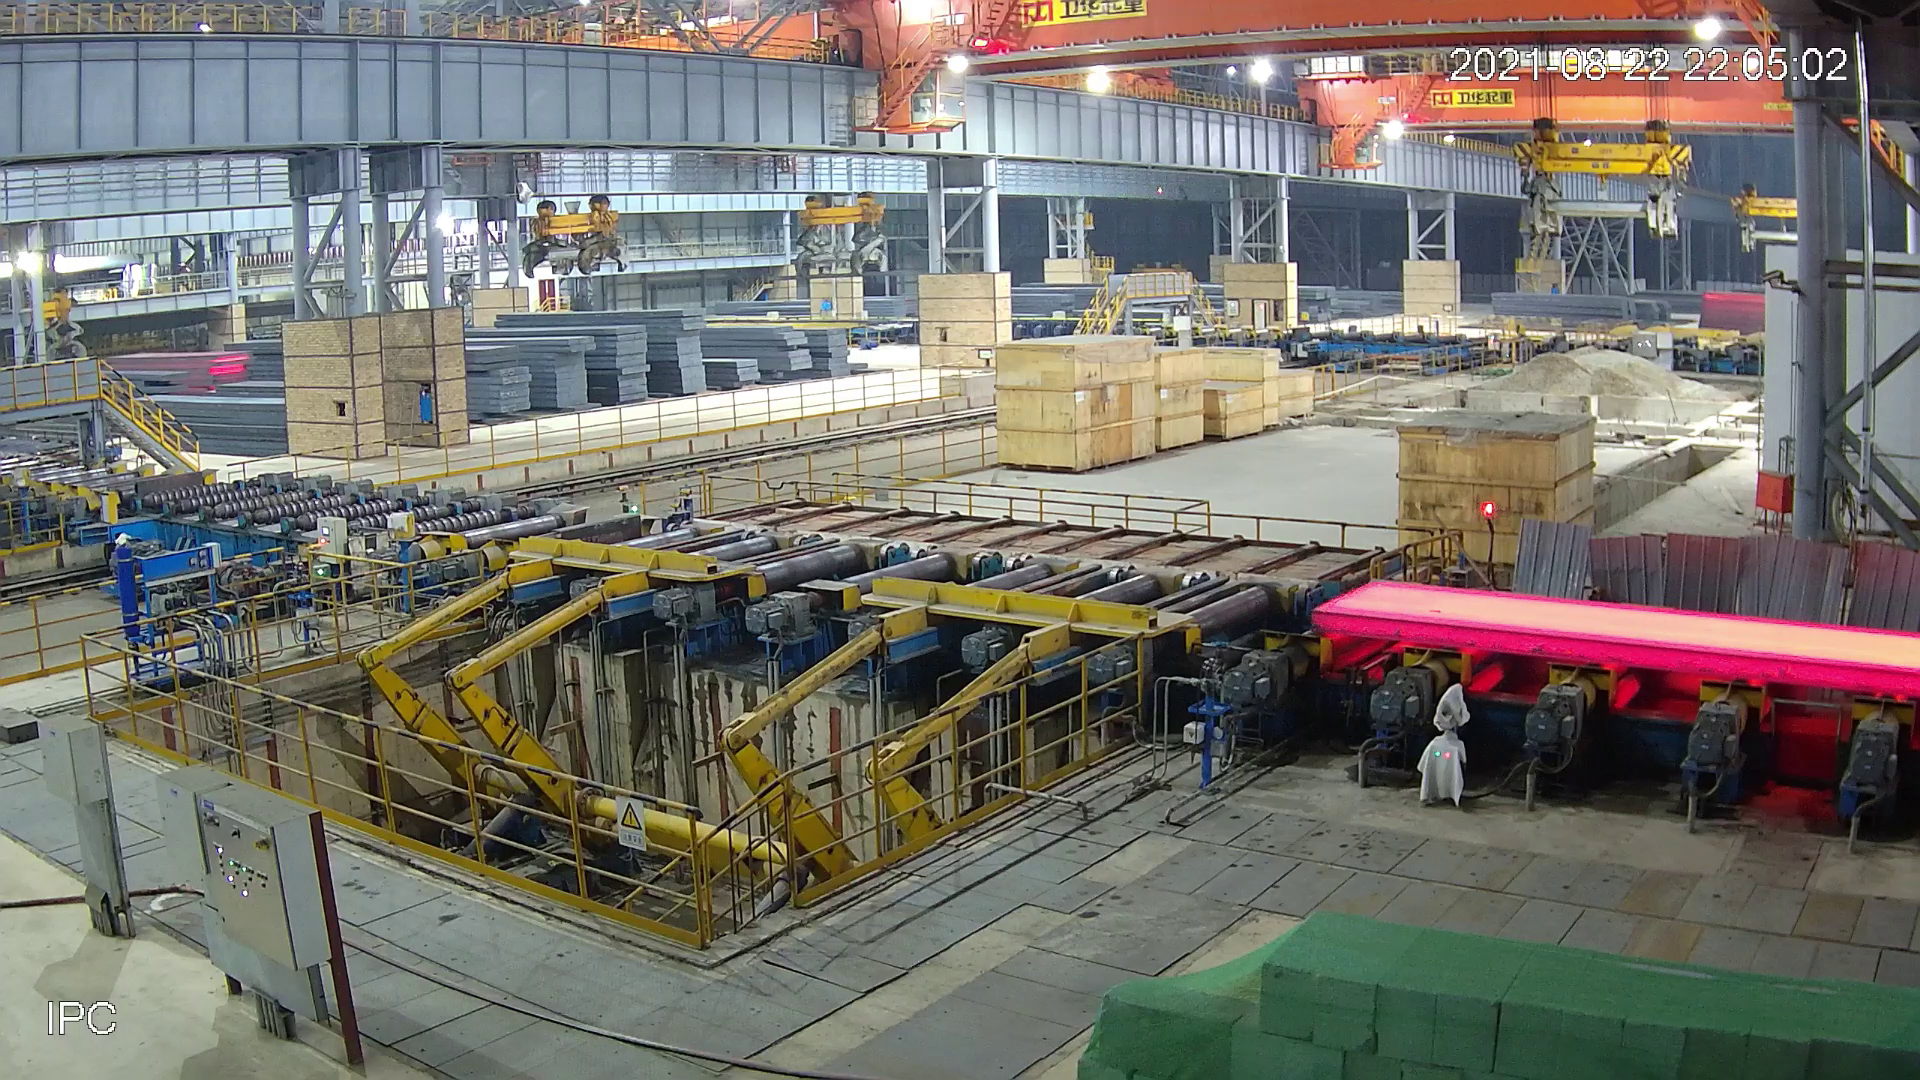slab: (1311, 572, 1920, 703)
